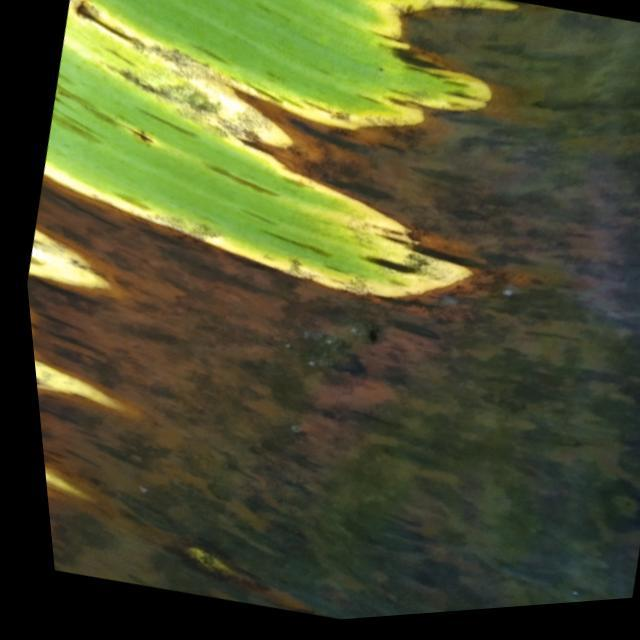Early_rust: (0, 0, 576, 600)
